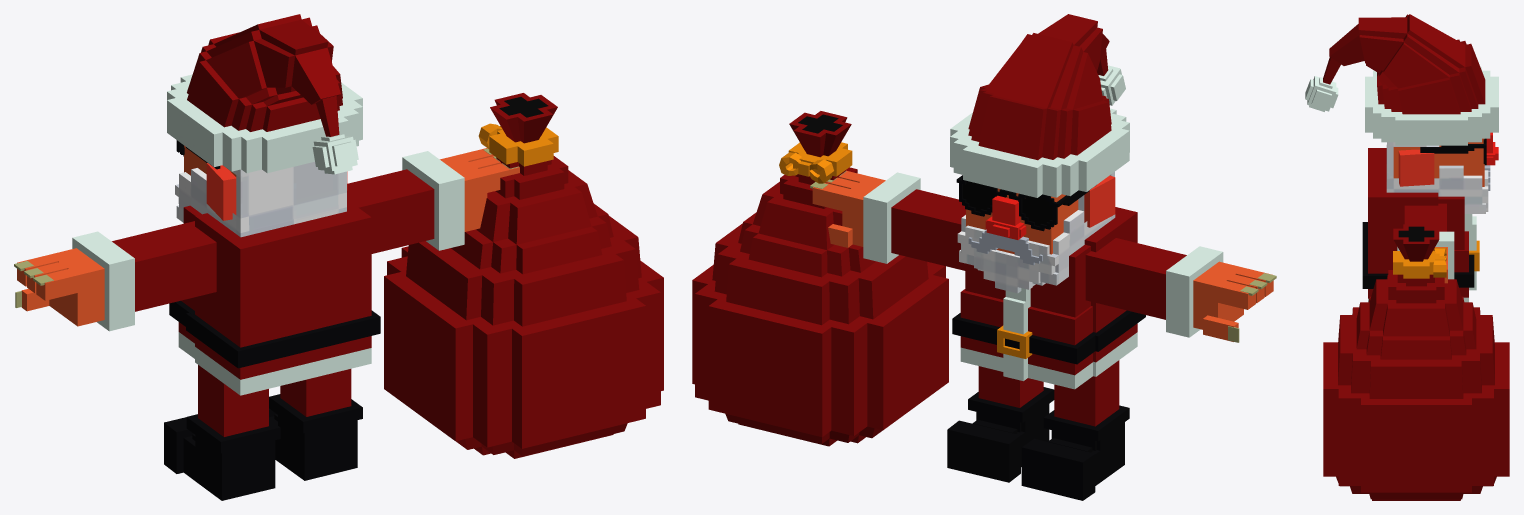
Rendered from steal_a_brainrot_santteo.glb.
3 views of the same model, side by side, from view 1: azimuth 30°, elevation 25°; view 2: azimuth 150°, elevation 25°; view 3: azimuth 270°, elevation 25° (orthographic). The views are drawn at different scales.
Visible parts, largest first — view 1: Object_10, Object_8, Object_13, Object_6, Object_14, Object_4, Object_5; view 2: Object_10, Object_8, Object_13, Object_6, Object_14, Object_4, Object_12, Object_7, Object_5, Object_9, Object_11; view 3: Object_10, Object_8, Object_14, Object_13, Object_6, Object_4, Object_5, Object_12, Object_7.
Boxes of the visible parts, x1=… form: Object_10: x1=112, y1=14, x2=663, y2=458; Object_8: x1=72, y1=74, x2=464, y2=395; Object_13: x1=164, y1=140, x2=380, y2=500; Object_6: x1=17, y1=145, x2=519, y2=326; Object_14: x1=175, y1=161, x2=346, y2=237; Object_4: x1=478, y1=123, x2=558, y2=166; Object_5: x1=206, y1=163, x2=347, y2=220; Object_10: x1=692, y1=14, x2=1186, y2=446; Object_8: x1=863, y1=65, x2=1223, y2=389; Object_13: x1=947, y1=175, x2=1145, y2=500; Object_6: x1=812, y1=170, x2=1273, y2=341; Object_14: x1=957, y1=172, x2=1115, y2=293; Object_4: x1=779, y1=142, x2=1032, y2=358; Object_12: x1=798, y1=114, x2=1052, y2=226; Object_7: x1=985, y1=195, x2=1026, y2=239; Object_5: x1=1084, y1=175, x2=1115, y2=227; Object_9: x1=968, y1=229, x2=1042, y2=265; Object_11: x1=810, y1=171, x2=1276, y2=342; Object_10: x1=1323, y1=14, x2=1509, y2=500; Object_8: x1=1305, y1=67, x2=1498, y2=302; Object_14: x1=1386, y1=142, x2=1488, y2=213; Object_13: x1=1362, y1=138, x2=1486, y2=288; Object_6: x1=1393, y1=138, x2=1484, y2=283; Object_4: x1=1393, y1=240, x2=1479, y2=278; Object_5: x1=1398, y1=149, x2=1434, y2=186; Object_12: x1=1398, y1=226, x2=1434, y2=241; Object_7: x1=1486, y1=132, x2=1498, y2=165.
Size of the model in its own units: 14.03 by 10.43 by 5.39.
11 materials, 1 textured.
